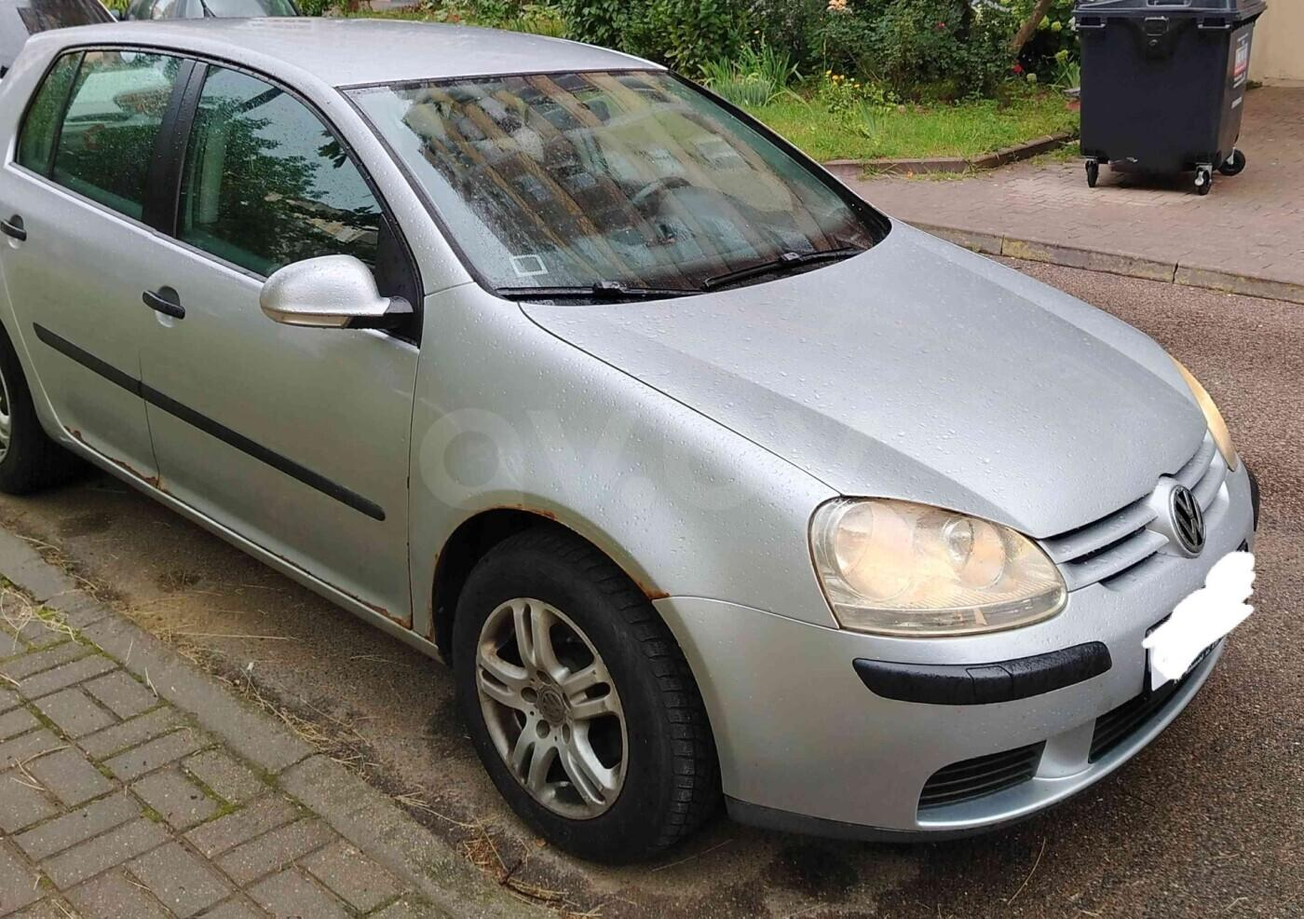Golf_2003-2009: (0, 25, 1269, 864)
